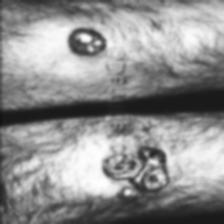Unclassified: (65, 27, 105, 57), (104, 156, 140, 179), (116, 188, 142, 204)
